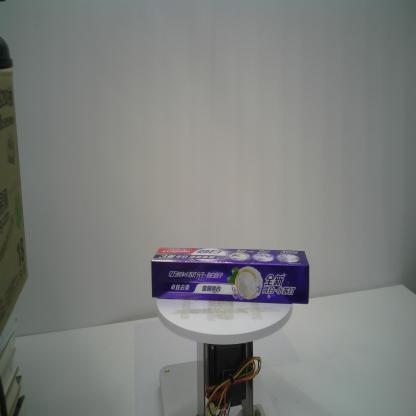Personal Hygiene: (151, 247, 310, 305)
